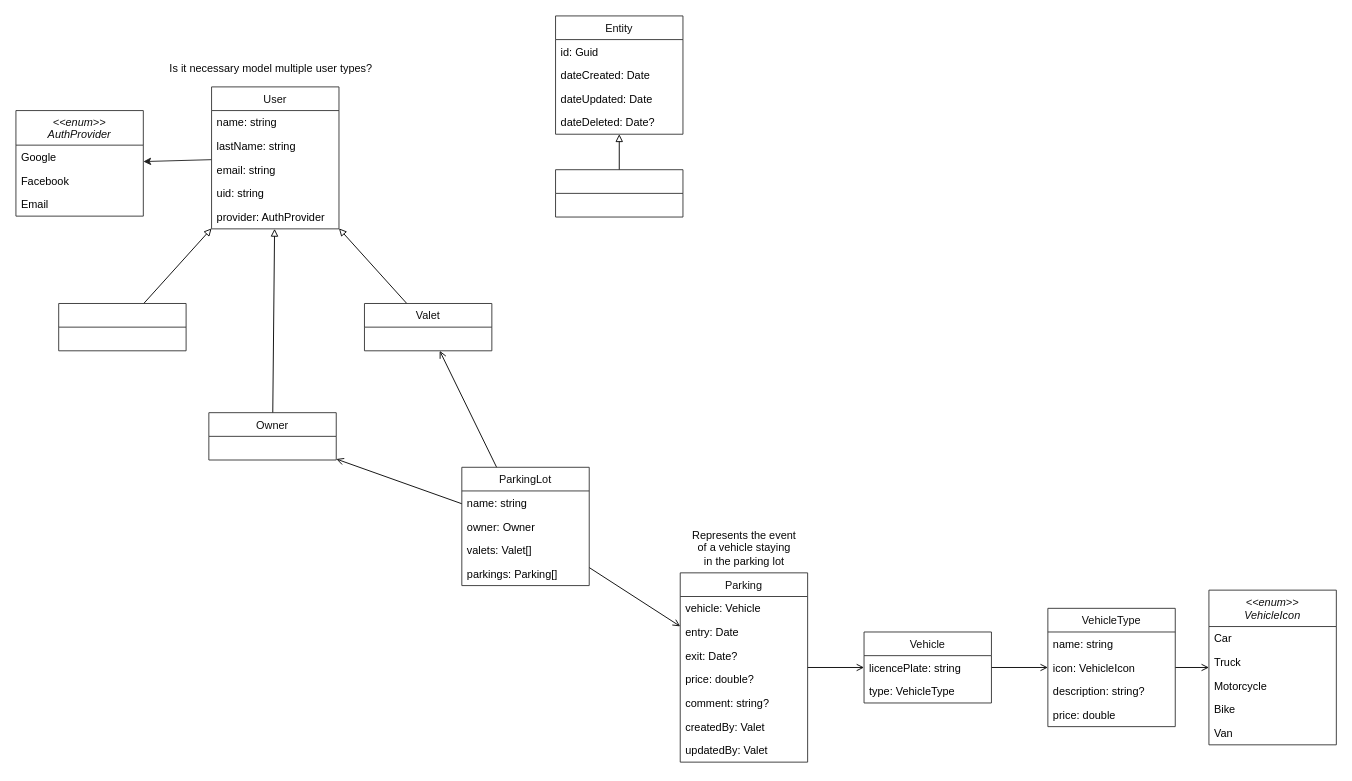
Image size: 1352x781. Some labels were removed from this diagram. The shapes that lost their labels are listed below. From the top down, each one's centre as x and y in pixels, then its label:
[619,193]: *all entities*
[122,327]: Admin
